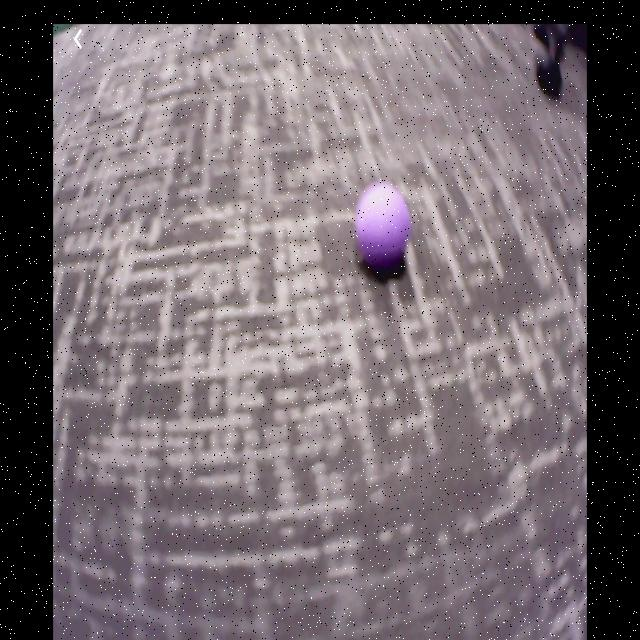ball: (357, 185, 410, 263)
